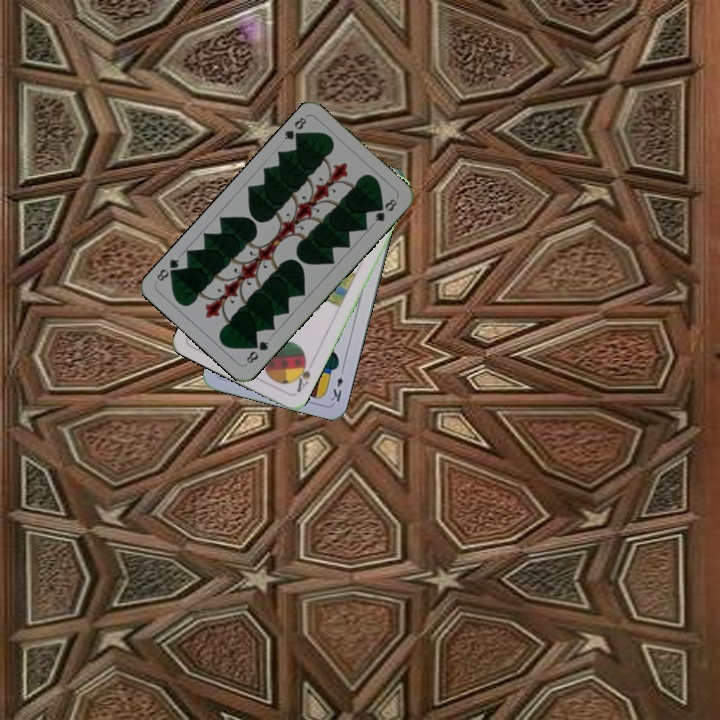EK: (327, 364, 346, 404)
G8: (280, 113, 309, 145), (242, 337, 272, 366)
SA: (290, 355, 313, 395)
